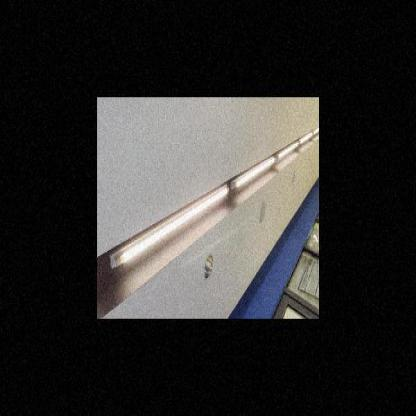light_on: (106, 183, 230, 274), (232, 152, 276, 192), (274, 139, 300, 162), (300, 129, 314, 144), (313, 127, 319, 137)
